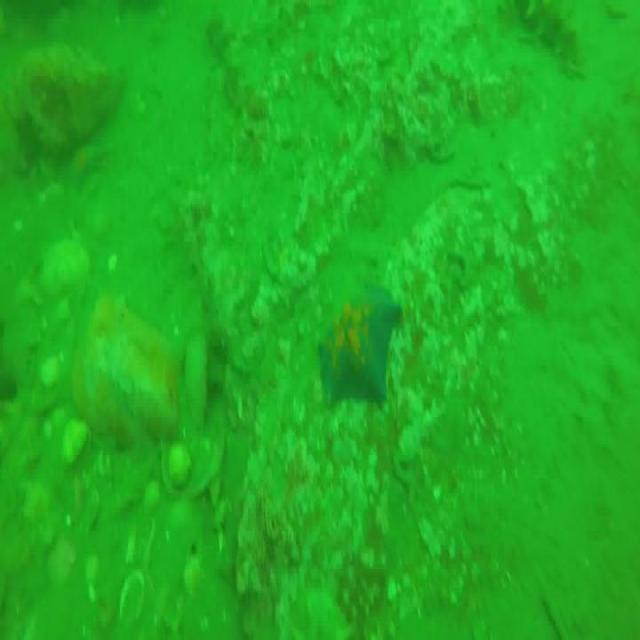holothurian: (513, 0, 585, 71)
scallop: (159, 436, 221, 492), (30, 242, 91, 297), (119, 567, 146, 632), (63, 424, 92, 464)
starfish: (318, 278, 403, 408)
